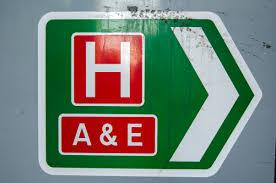Hospital: (51, 20, 237, 168)
